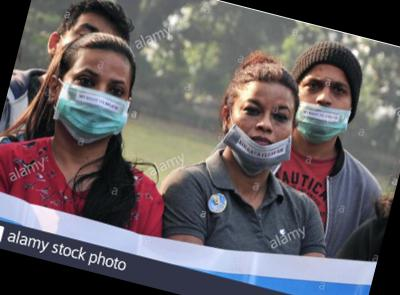mask_weared_incorrect: (219, 89, 299, 180), (285, 67, 361, 150)
with_mask: (49, 60, 135, 150)
